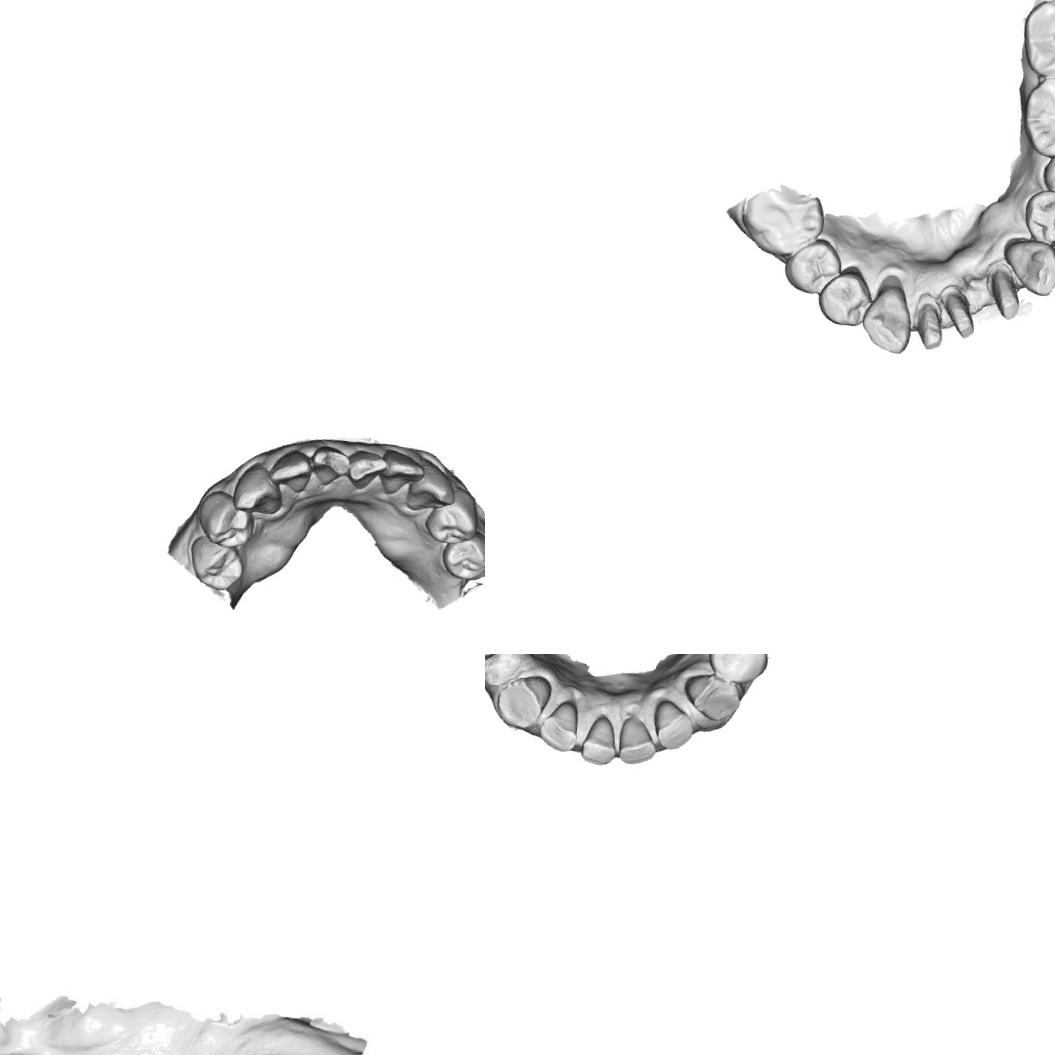canine: (858, 278, 918, 358), (493, 669, 554, 736), (678, 670, 748, 727), (996, 234, 1055, 300), (404, 455, 462, 516), (230, 458, 288, 518)
crown: (979, 258, 1028, 322), (935, 282, 982, 342), (909, 294, 949, 354)
incisor: (647, 697, 700, 754), (534, 695, 583, 755), (614, 712, 662, 769), (264, 445, 316, 496), (578, 710, 622, 768), (378, 447, 426, 500), (306, 442, 354, 490), (344, 446, 390, 494)
molar: (737, 180, 830, 262), (1016, 72, 1055, 164), (1017, 0, 1055, 85)
premolar: (192, 486, 260, 553), (778, 232, 846, 296), (420, 483, 485, 549), (184, 532, 249, 594), (814, 265, 875, 330), (437, 526, 485, 585), (703, 654, 773, 688), (1019, 184, 1055, 247), (1040, 149, 1055, 207)
